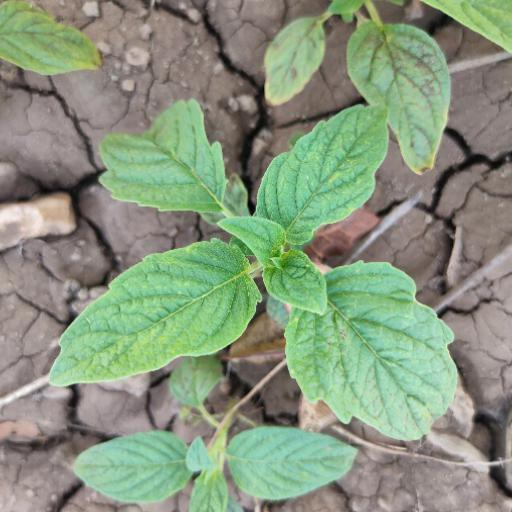crop: (34, 114, 499, 449)
